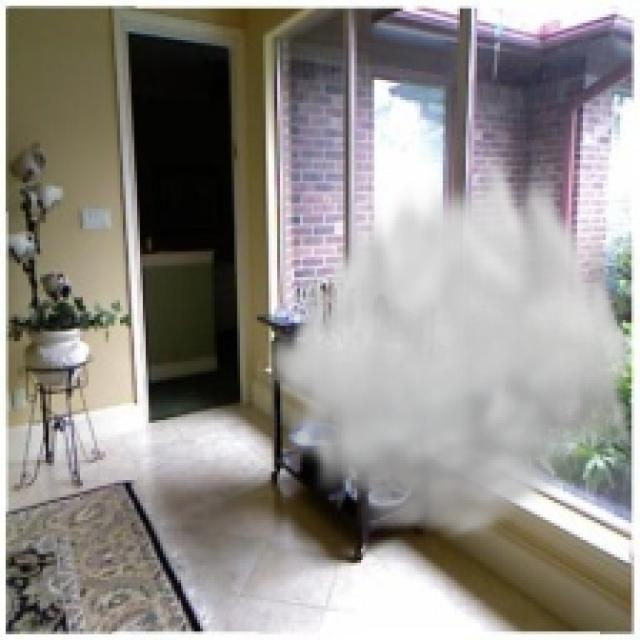Smoke: (262, 140, 638, 546)
